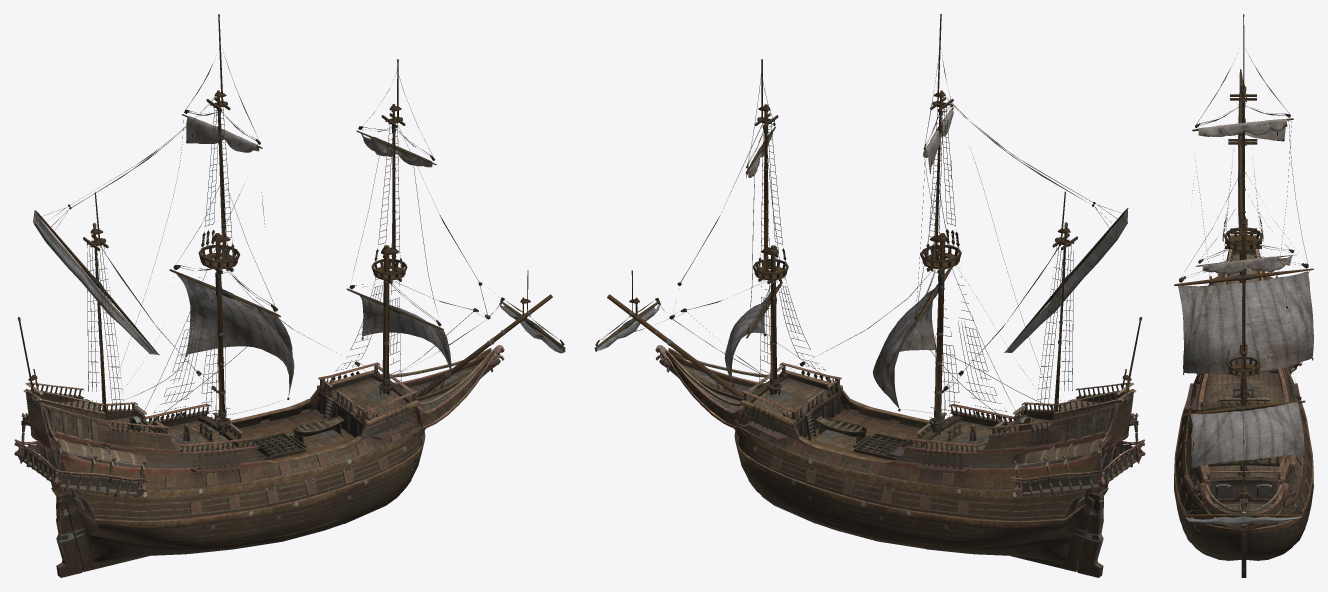
The model's file is dutch_ship_large_01.glb.
3 views of the same model, side by side, from view 1: azimuth 30°, elevation 25°; view 2: azimuth 150°, elevation 25°; view 3: azimuth 270°, elevation 25° (orthographic). The views are drawn at different scales.
Parts seen in each view (by area): view 1: dutch_ship_large_01_hull, dutch_ship_large_01_rigging, dutch_ship_large_01_sails; view 2: dutch_ship_large_01_hull, dutch_ship_large_01_rigging, dutch_ship_large_01_sails; view 3: dutch_ship_large_01_sails, dutch_ship_large_01_hull, dutch_ship_large_01_rigging.
Part boxes in pixels (box(x1,y1,x2,y2)): dutch_ship_large_01_hull: box(14, 345, 504, 577); dutch_ship_large_01_rigging: box(17, 14, 565, 482); dutch_ship_large_01_sails: box(176, 116, 451, 395); dutch_ship_large_01_hull: box(655, 345, 1145, 577); dutch_ship_large_01_rigging: box(594, 14, 1142, 475); dutch_ship_large_01_sails: box(724, 109, 953, 408); dutch_ship_large_01_sails: box(1178, 119, 1313, 467); dutch_ship_large_01_hull: box(1174, 235, 1313, 577); dutch_ship_large_01_rigging: box(1174, 14, 1313, 524).
Bounding box in the file's own units: 34.25 × 32.06 × 8.37.
3 materials, 3 textured.
